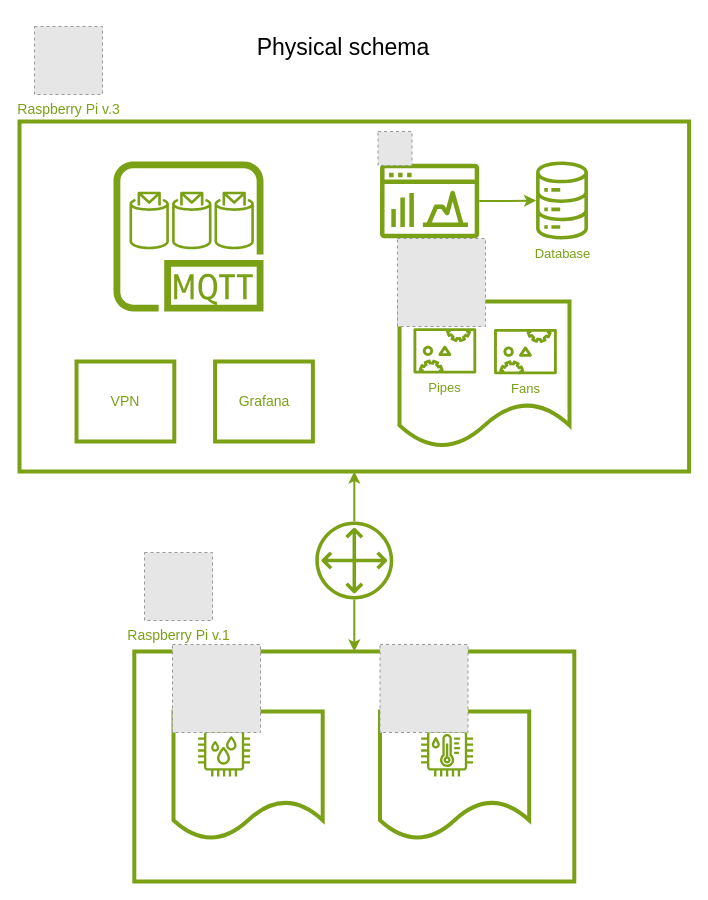
The diagram is 708 pixels wide and 900 high, and some of its shapes have lost their labels. Grey dashed boxes stand in for pictures. Here are the shapes that lost their labels. From the top down, the centre of each, then its label:
point 429,200: Web server
point 354,560: Router
point 224,750: Wood moisture sensor
point 447,750: Temp/moisture sensor
